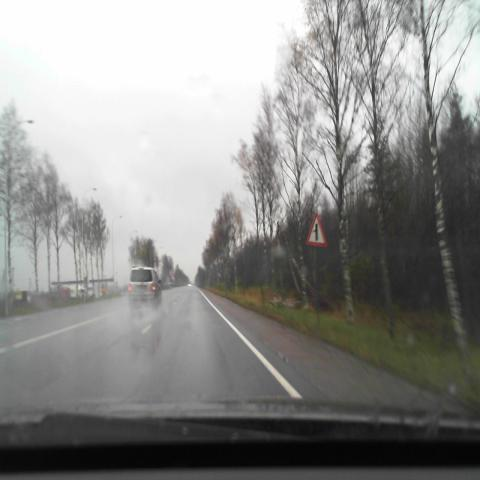2_3_3: (306, 213, 328, 246)
